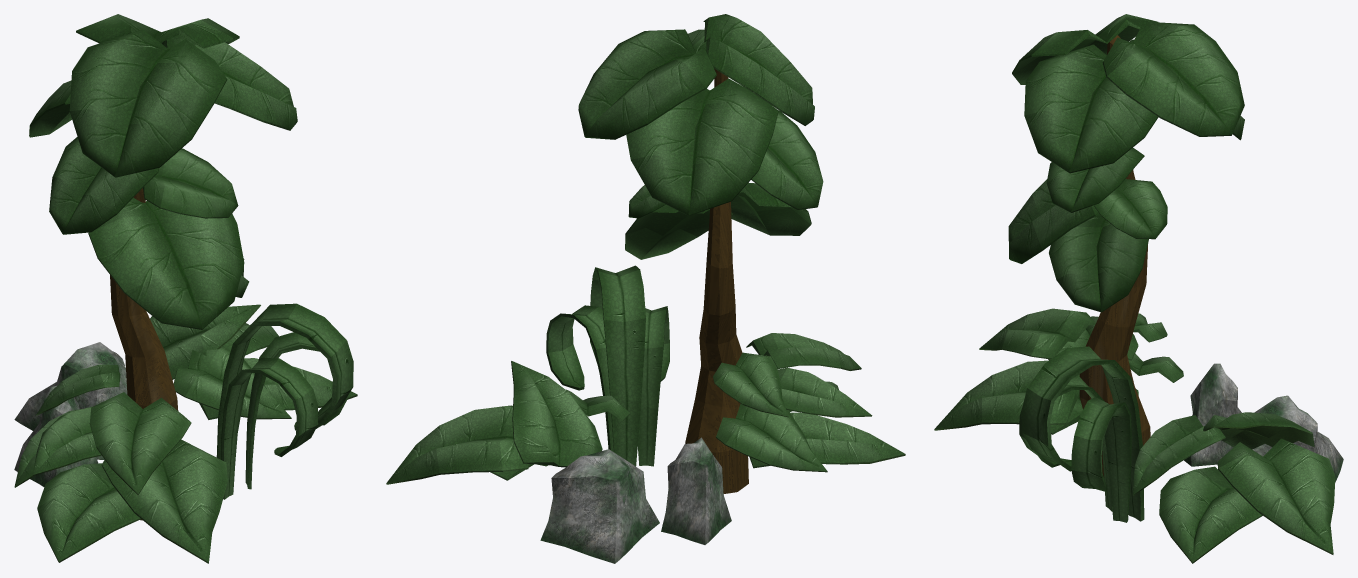
The model's file is Plants01.fbx.
3 views of the same model, side by side, from view 1: azimuth 30°, elevation 25°; view 2: azimuth 150°, elevation 25°; view 3: azimuth 270°, elevation 25° (orthographic). The views are drawn at different scales.
Visible parts, largest first — view 1: LeafRound_geo4, LeafRound_geo, Leaf_geo4, Leaf_geo5, Leaf_geo7, LeafRound_geo8, Leaf_Tongue_geo2, TreeTrunk_geo, LeafRound_geo5, LeafRound_geo2, Leaf_Tongue_geo1, Leaf_geo2 (+11 smaller); view 2: LeafRound_geo7, LeafRound_geo6, Stone_geo, TreeTrunk_geo, Leaf_Tongue_geo2, Leaf_geo3, Leaf_geo1, LeafRound_geo4, Stone_geo1, Leaf_geo6, LeafRound_geo8, Leaf_Tongue_geo (+9 smaller); view 3: LeafRound_geo6, LeafRound_geo5, Leaf_geo1, LeafRound_geo1, Leaf_Tongue_geo2, Leaf_geo, Leaf_Tongue_geo, Leaf_geo4, TreeTrunk_geo, Leaf_geo7, LeafRound_geo, Leaf_geo2 (+10 smaller).
Part boxes in pixels (<box>): LeafRound_geo4: <box>69,29,227,177</box>; LeafRound_geo: <box>88,197,244,329</box>; Leaf_geo4: <box>101,439,227,563</box>; Leaf_geo5: <box>37,463,140,562</box>; Leaf_geo7: <box>89,392,191,494</box>; LeafRound_geo8: <box>49,137,159,234</box>; Leaf_Tongue_geo2: <box>216,303,353,459</box>; TreeTrunk_geo: <box>110,188,178,520</box>; LeafRound_geo5: <box>162,35,297,130</box>; LeafRound_geo2: <box>143,148,238,218</box>; Leaf_Tongue_geo1: <box>221,358,318,499</box>; Leaf_geo2: <box>173,346,291,419</box>; LeafRound_geo7: <box>626,78,778,215</box>; LeafRound_geo6: <box>578,29,716,139</box>; Stone_geo: <box>540,449,659,563</box>; TreeTrunk_geo: <box>685,68,748,493</box>; Leaf_Tongue_geo2: <box>590,265,645,466</box>; Leaf_geo3: <box>511,361,602,467</box>; Leaf_geo1: <box>386,405,529,484</box>; LeafRound_geo4: <box>703,14,814,125</box>; Stone_geo1: <box>661,437,731,544</box>; Leaf_geo6: <box>716,403,827,472</box>; LeafRound_geo8: <box>751,110,823,209</box>; Leaf_Tongue_geo: <box>546,305,613,451</box>; LeafRound_geo6: <box>1102,21,1244,136</box>; LeafRound_geo5: <box>1024,44,1158,173</box>; Leaf_geo1: <box>1217,438,1335,554</box>; LeafRound_geo1: <box>1049,213,1148,312</box>; Leaf_Tongue_geo2: <box>1022,346,1144,521</box>; Leaf_geo: <box>1159,466,1262,563</box>; Leaf_Tongue_geo: <box>1071,397,1131,522</box>; Leaf_geo4: <box>934,360,1079,430</box>; TreeTrunk_geo: <box>1079,35,1150,477</box>; Leaf_geo7: <box>979,308,1095,359</box>; LeafRound_geo: <box>1008,179,1118,263</box>; Leaf_geo2: <box>1133,415,1225,495</box>.
Size of the model in its own units: 12.15 by 14.26 by 11.53.
